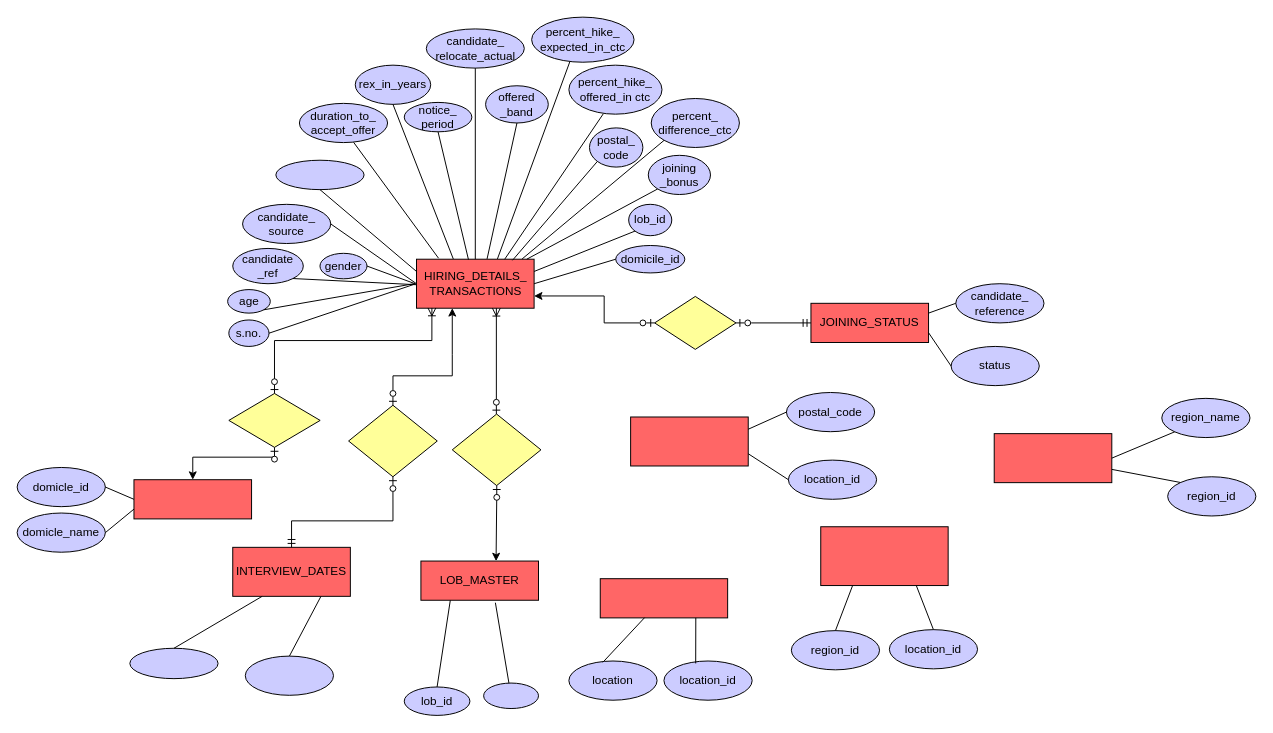
Some shapes in this 1273 by 733 pixel diagram are drawn without their labels. The centre of each missing label's shape, as x and y in pixels:
attended interview: [392,440]
belongs to: [496,449]
candidate_ref: [173,663]
date_of_ interview: [288,675]
doj_extended: [319,174]
DOMICILE_MASTER: [192,499]
From: [274,419]
lob: [511,695]
LOCATION_MASTER: [663,598]
POSTAL_CODE_ MASTER: [689,441]
REGION_LOCATION_ MAPPING: [884,556]
REGION_MASTER: [1052,458]
Response: [695,322]
